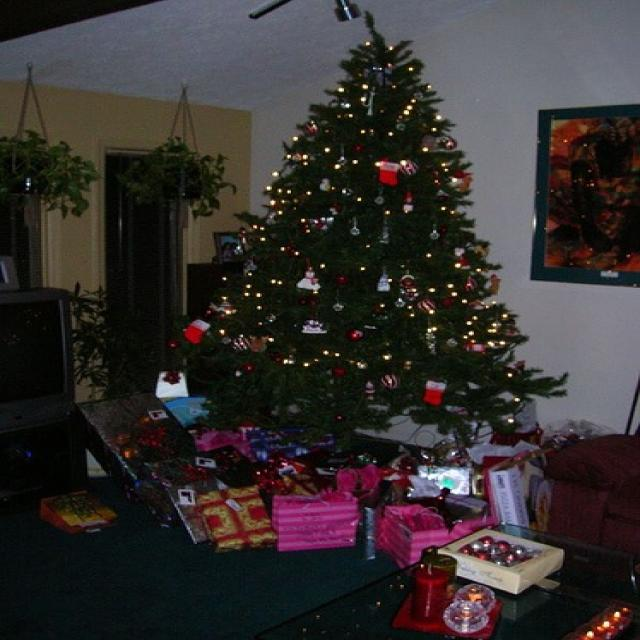pottedplant: (116, 134, 238, 226), (0, 128, 98, 218)
tvmonitor: (0, 284, 79, 438)
